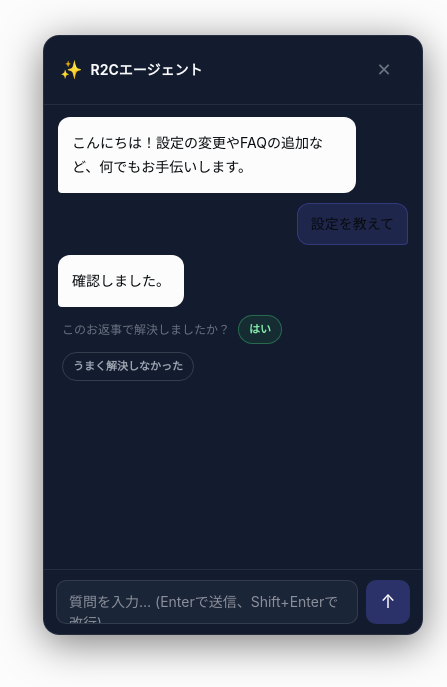
Test: AdminAgentPanel — 解決確認プロンプト › 「はい」クリックでプロンプトは消え、APIは呼ばれない
The width and height of the screenshot is (447, 687).
Step 1. Click the button "はい" → (260, 329), box left=238, top=315, right=282, bottom=344
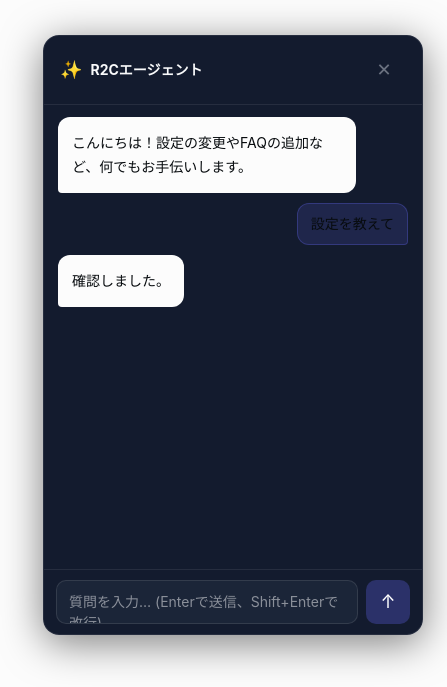
Now the text "このお返事で解決しましたか？" is gone
